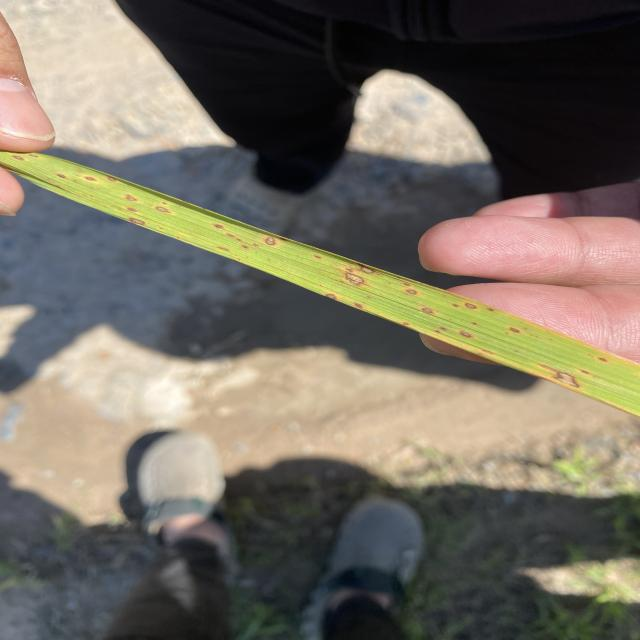Dom nau: (550, 369, 579, 388), (345, 273, 364, 285), (129, 218, 145, 225), (421, 307, 434, 314), (265, 237, 276, 245), (155, 206, 169, 212), (216, 246, 230, 252), (361, 266, 373, 273), (459, 331, 472, 337), (325, 293, 337, 299), (465, 303, 477, 309), (405, 289, 417, 295), (510, 327, 521, 333), (84, 176, 96, 181), (12, 155, 23, 160), (126, 196, 137, 201), (127, 207, 137, 212), (226, 233, 236, 237), (598, 357, 606, 362), (29, 154, 38, 158), (57, 174, 66, 178), (355, 303, 362, 308), (109, 177, 117, 181), (214, 224, 222, 228), (402, 322, 410, 326), (279, 238, 289, 241), (581, 370, 588, 374), (402, 283, 411, 286), (313, 256, 321, 259), (242, 245, 249, 248), (252, 244, 259, 247), (451, 304, 458, 307), (347, 269, 353, 272), (440, 327, 446, 330), (487, 308, 493, 311), (472, 322, 477, 325), (435, 330, 440, 333), (237, 239, 241, 241)
